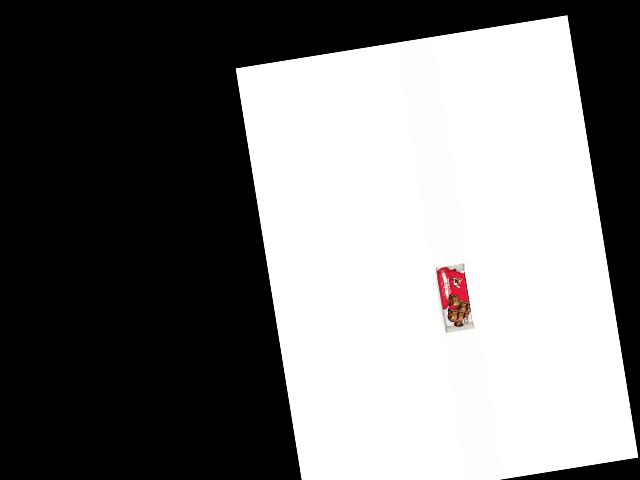chocolate: (429, 261, 476, 335)
